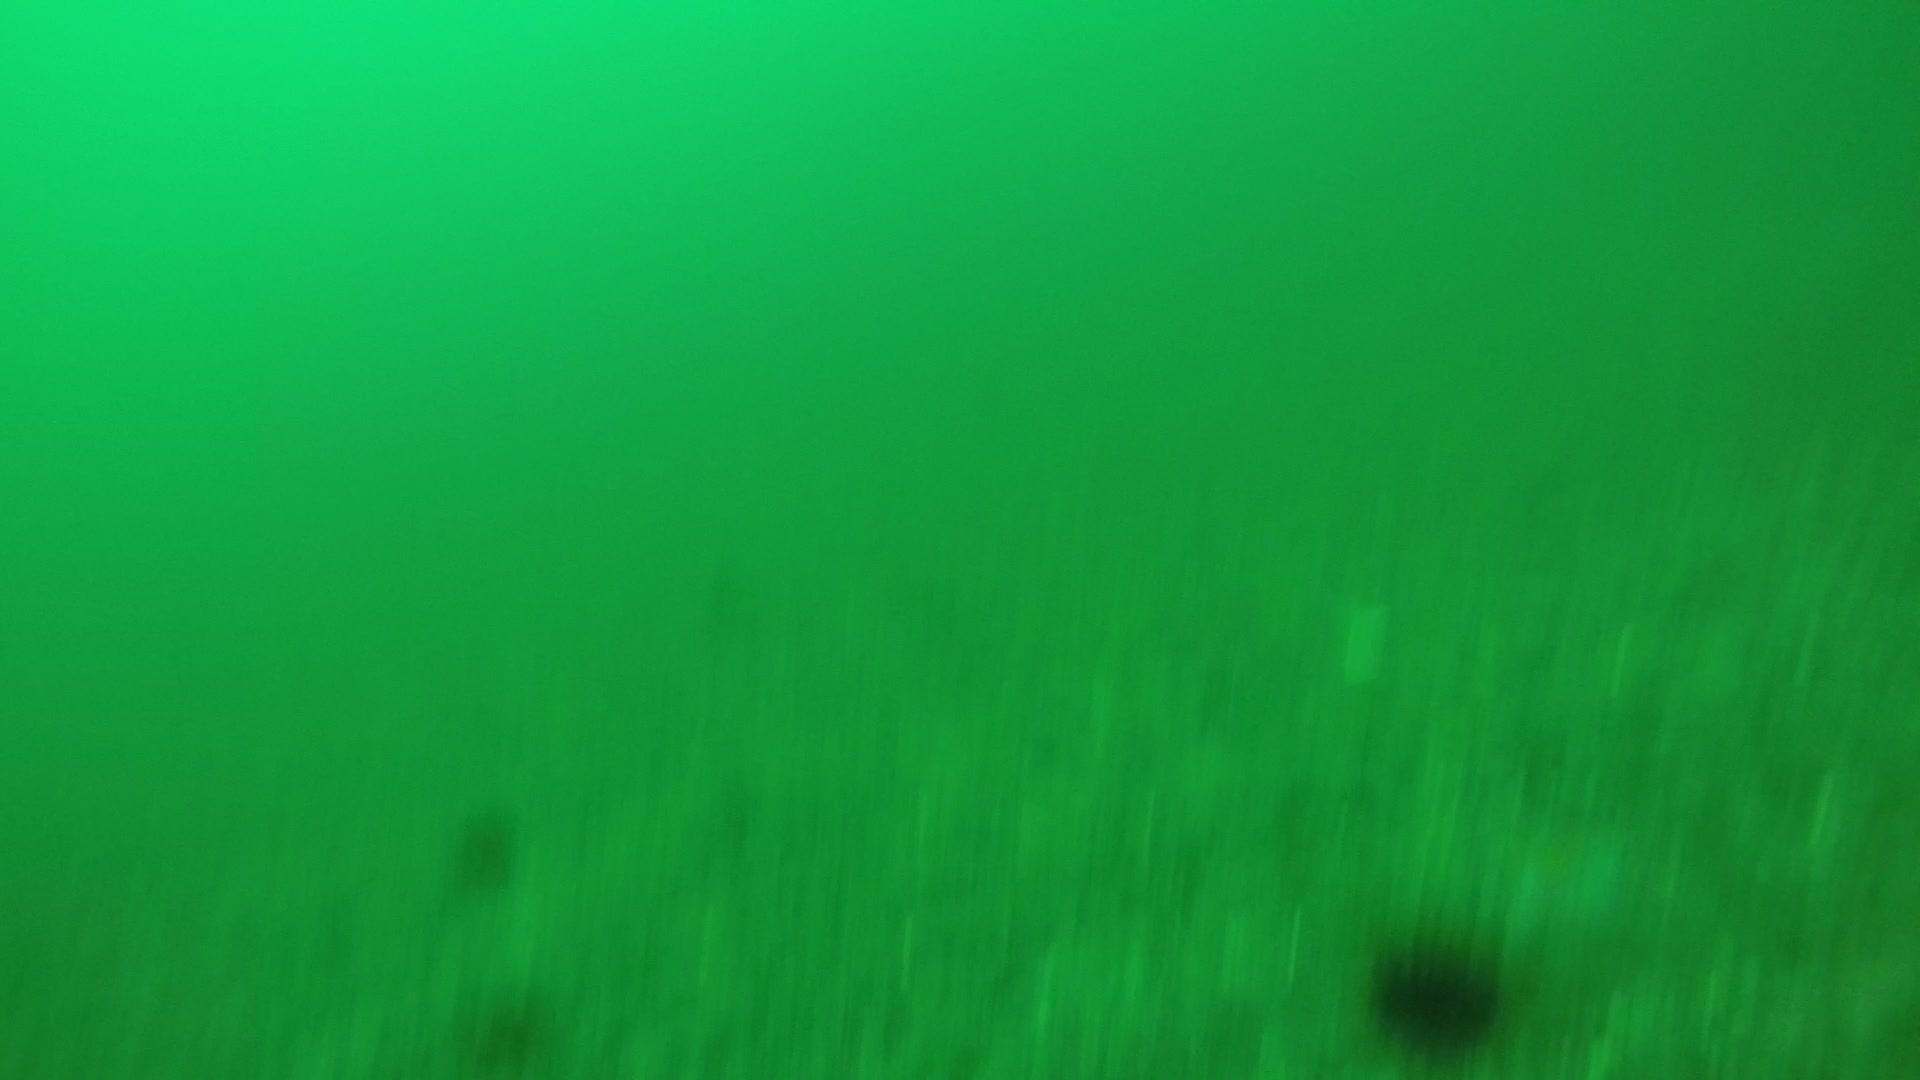echinus: (1362, 924, 1511, 1058), (458, 986, 560, 1075), (444, 800, 525, 895)
starfish: (1485, 800, 1639, 944)
